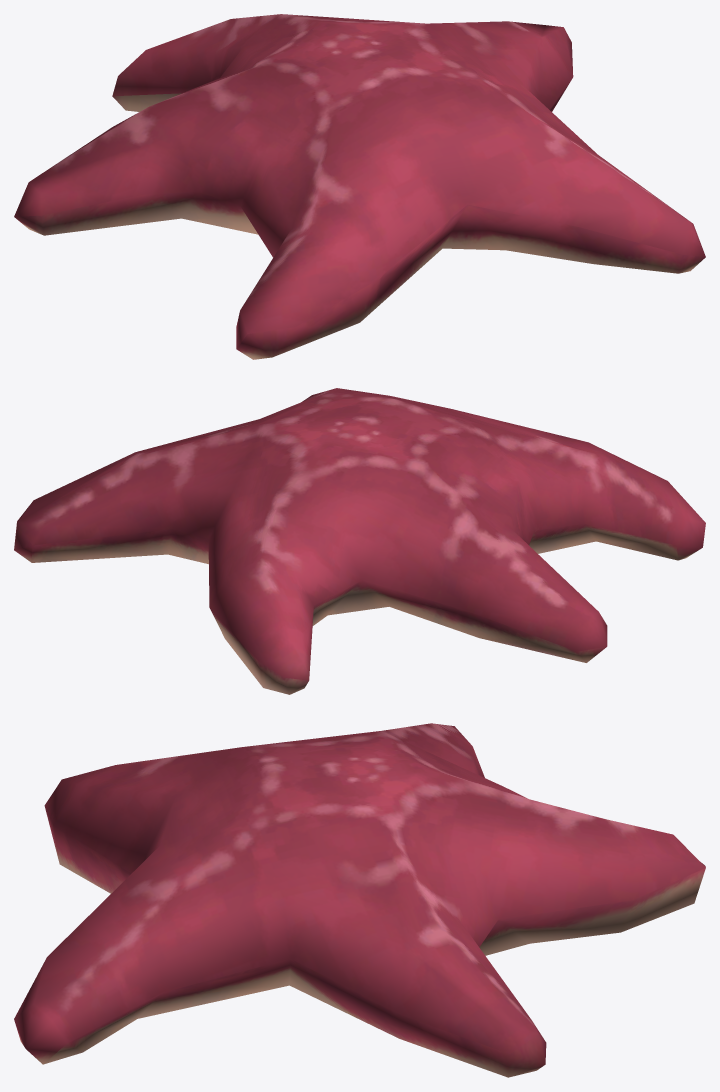
The model's file is StarFish.fbx.
The picture shows the model from 3 angles, top to bottom: view 1: azimuth 30°, elevation 25°; view 2: azimuth 150°, elevation 25°; view 3: azimuth 270°, elevation 25°; orthographic projection. The views are drawn at different scales.
Visible parts, largest first — view 1: StarFish_Posed01; view 2: StarFish_Posed01; view 3: StarFish_Posed01.
Part boxes in pixels (left/top/right/bottom): StarFish_Posed01: left=14, top=14, right=705, bottom=359; StarFish_Posed01: left=14, top=388, right=705, bottom=694; StarFish_Posed01: left=14, top=723, right=705, bottom=1077.
Bounding box in the file's own units: 1433 × 401 × 1310.
